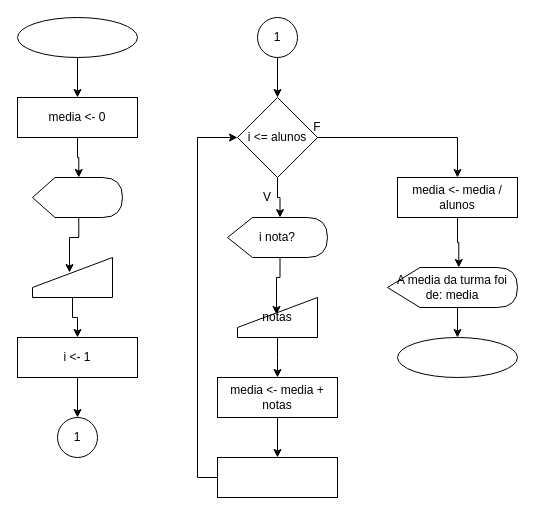
Some shapes in this 535 by 515 pixel diagram are drawn without their labels. The shapes that lost their labels are listed below. From the top down, each one's centre as x and y in pixels, then its label:
At (x=77, y=37): "Início".
At (x=77, y=197): "Quantos alunos ha na sala?".
At (x=72, y=277): "alunos".
At (x=457, y=357): "Fim".
At (x=277, y=477): "i <- i + 1".
